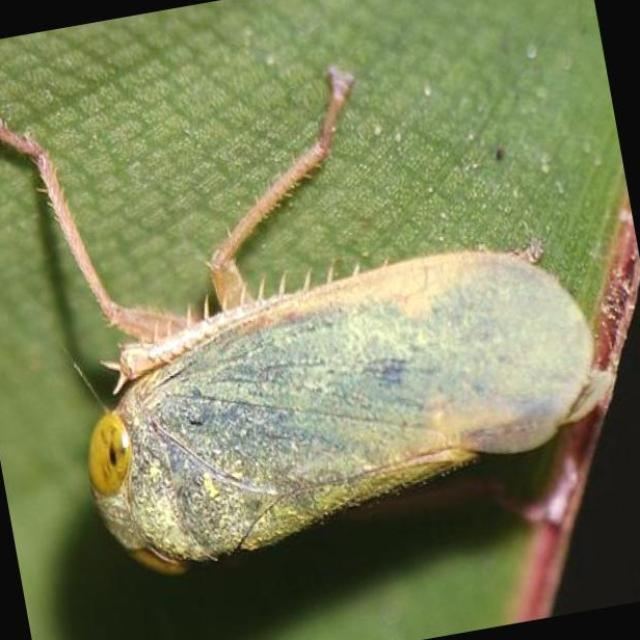green leaf hopper: (0, 70, 628, 572)
